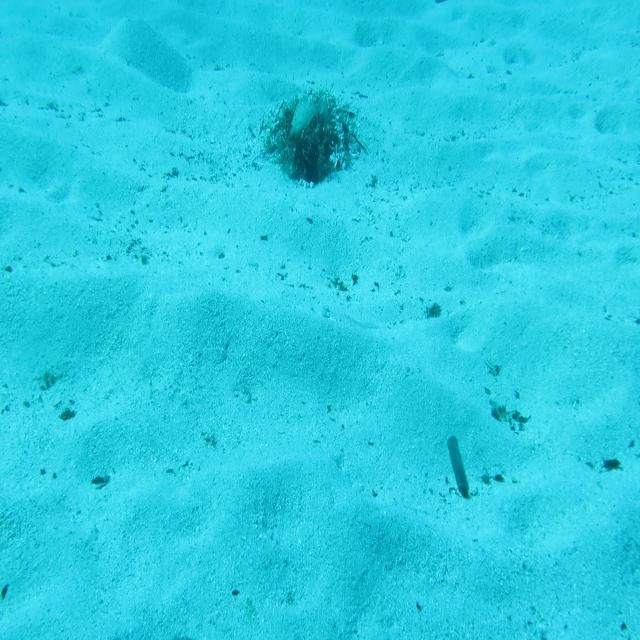NIP_IN: (288, 94, 327, 138)
nest: (260, 85, 362, 188)
vegetation: (447, 429, 471, 502), (422, 299, 444, 322), (599, 453, 622, 473)
